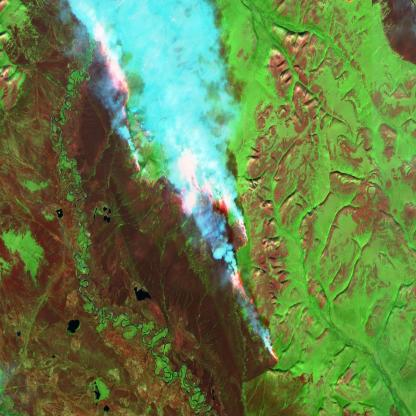fire: (82, 1, 285, 410)
